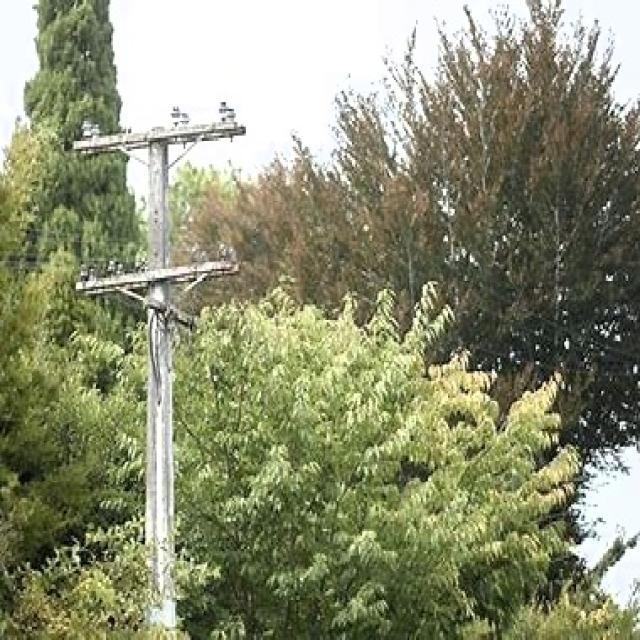utility poles: (73, 86, 240, 640)
